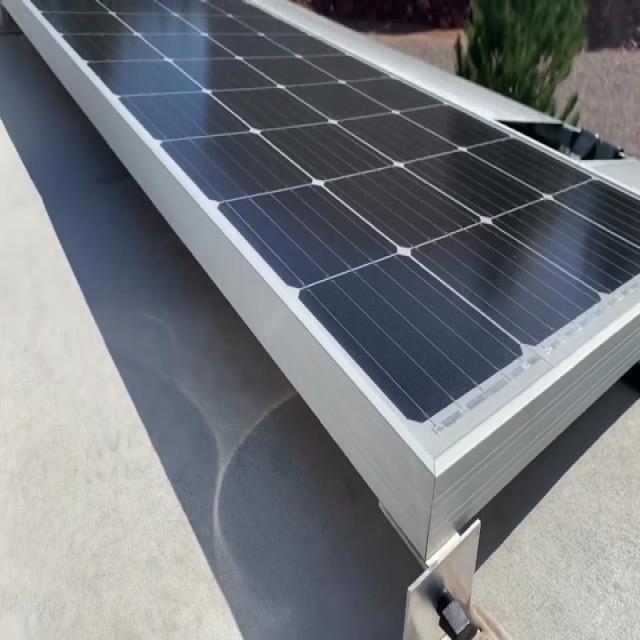Normal Solar Panel: (18, 0, 640, 484)
